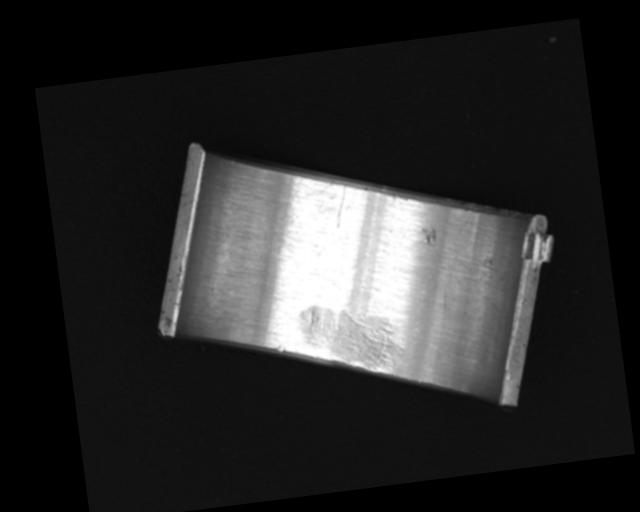bruise: (420, 224, 438, 245), (276, 343, 286, 353)
nick: (330, 183, 352, 229)
scratch: (294, 294, 408, 382)
